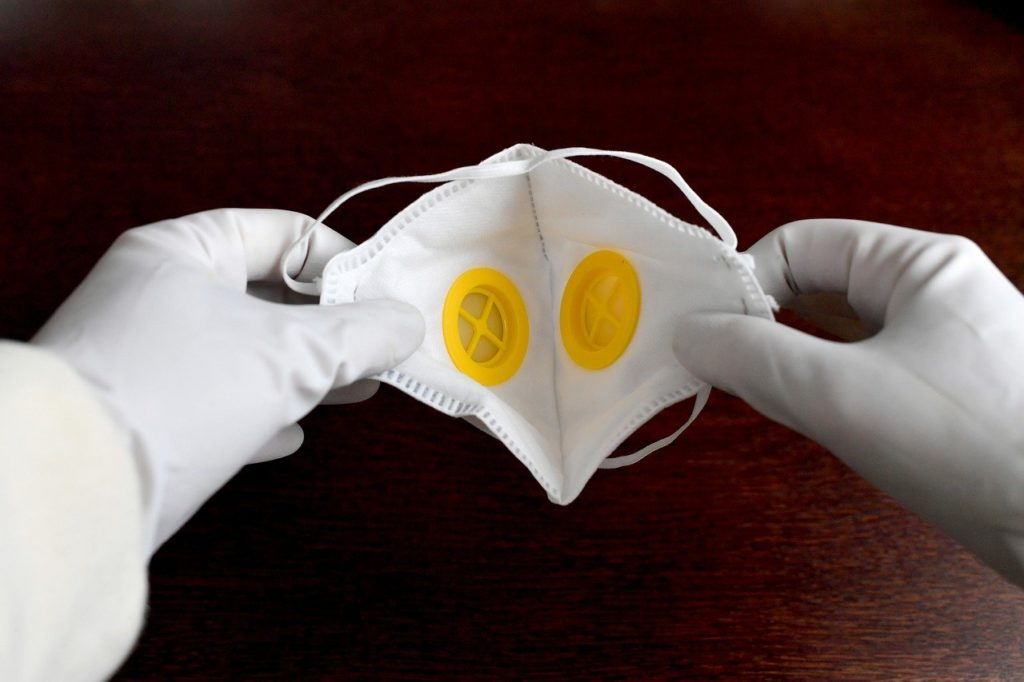Gloves: (45, 206, 426, 537), (675, 204, 1015, 467)
Mask: (344, 138, 748, 502)
